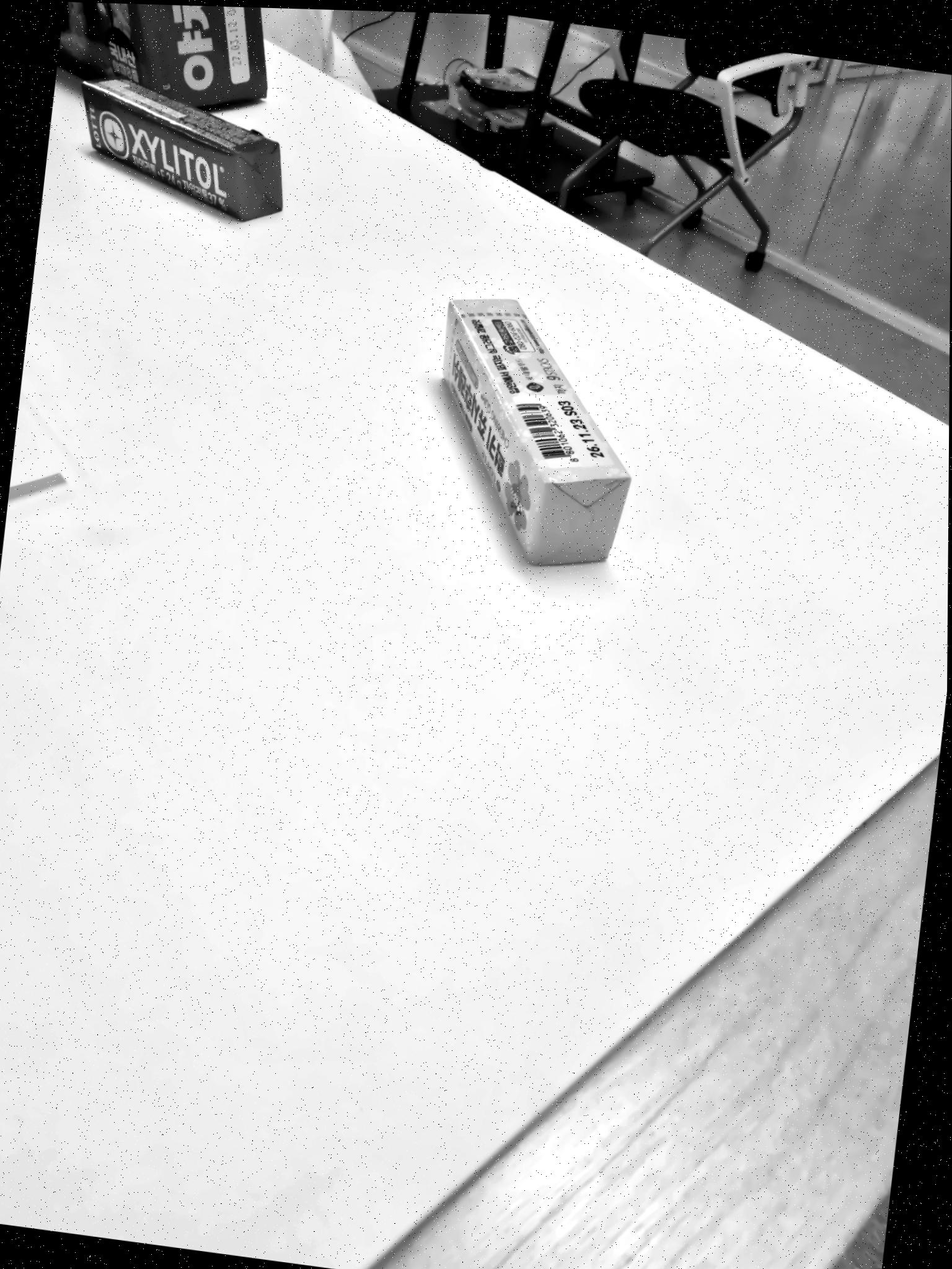gum_green: (82, 81, 282, 220)
gum_yellow: (443, 299, 630, 565)
